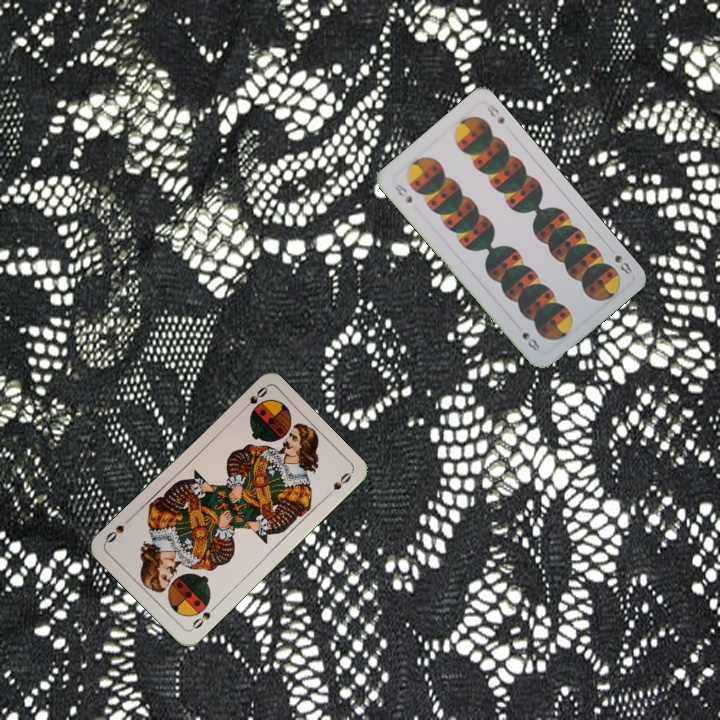S8: (604, 242, 635, 277), (390, 180, 415, 206)
SO: (236, 383, 270, 415), (188, 601, 220, 632)
